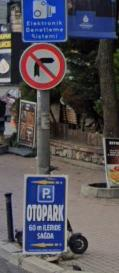rightturnsareforbidden: (19, 43, 66, 91)
